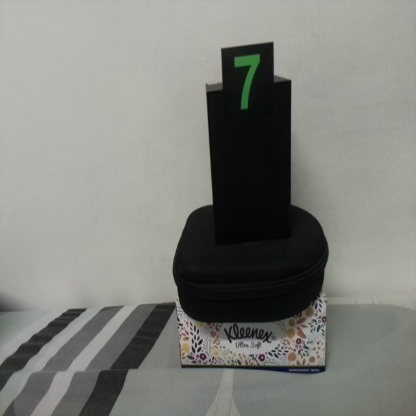id_7: (222, 46, 275, 126)
